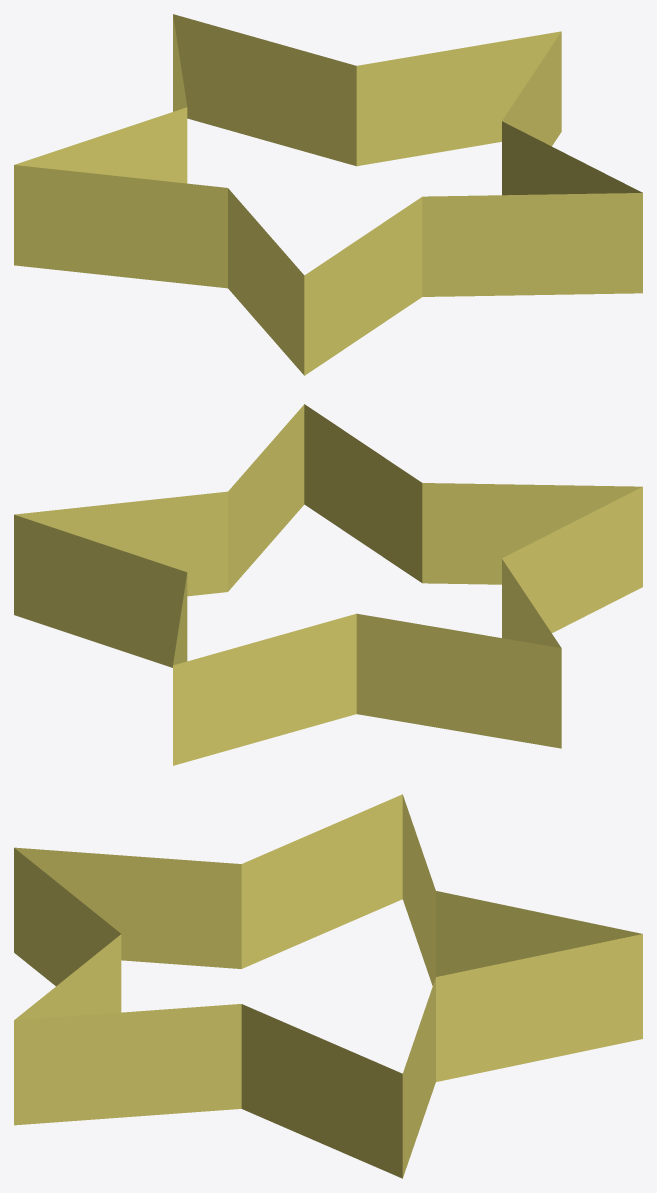
Rendered from Star.fbx.
3 renders of one model, top to bottom at view 1: azimuth 30°, elevation 25°; view 2: azimuth 150°, elevation 25°; view 3: azimuth 270°, elevation 25°, orthographic. The views are drawn at different scales.
Visible parts, largest first — view 1: Star; view 2: Star; view 3: Star.
Part boxes in pixels (x1,y1,x2,y2): Star: (14, 14, 642, 375); Star: (14, 404, 642, 765); Star: (14, 794, 642, 1178).
Bounding box in the file's own units: 0.2853 × 0.05 × 0.2714.
